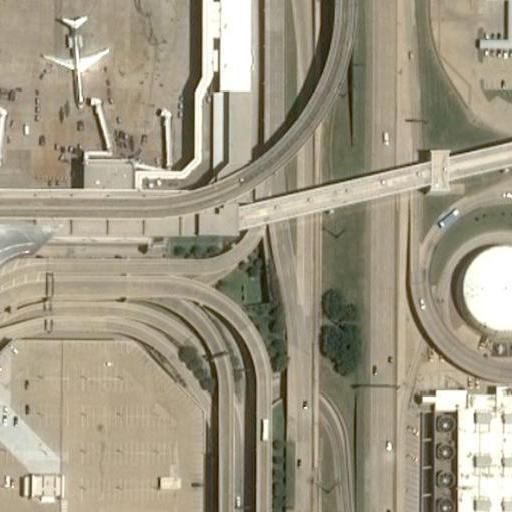Aircraft: (32, 2, 113, 109)
